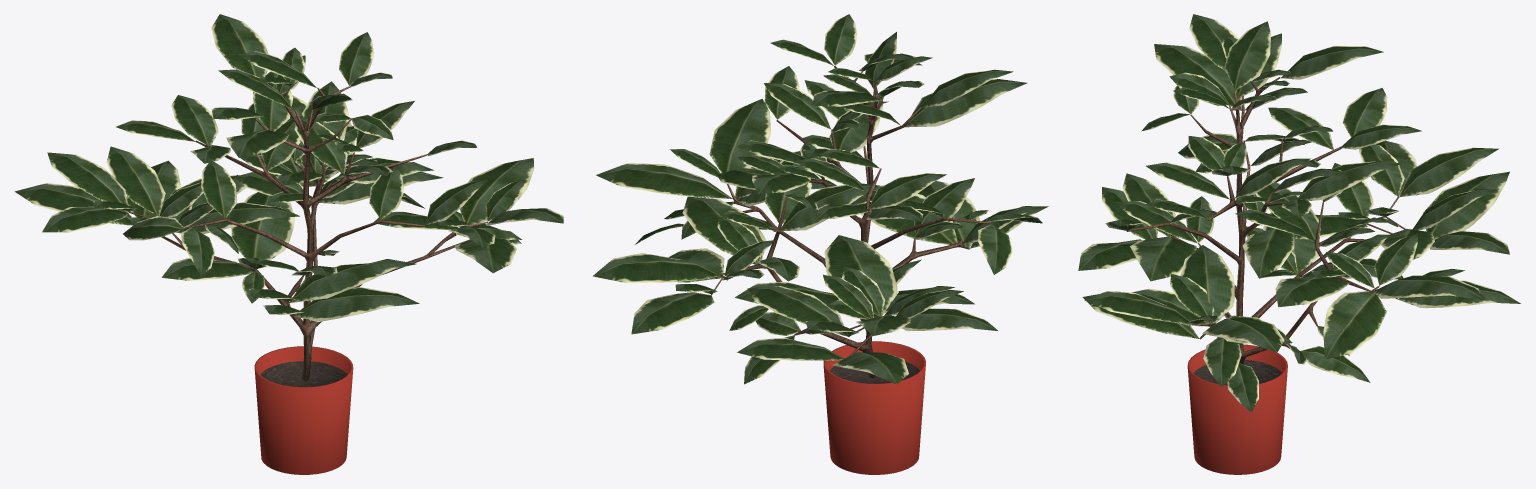
Rendered from ficus.glb.
3 views of the same model, side by side, from view 1: azimuth 30°, elevation 25°; view 2: azimuth 150°, elevation 25°; view 3: azimuth 270°, elevation 25° (orthographic). The views are drawn at different scales.
Parts seen in each view (by area): view 1: defaultMaterial (×2); view 2: defaultMaterial (×2); view 3: defaultMaterial (×2).
Part boxes in pixels (box(x1,y1,x2,y2)): defaultMaterial (×2): box(14, 14, 563, 474); defaultMaterial (×2): box(593, 14, 1048, 474); defaultMaterial (×2): box(1078, 14, 1520, 474).
Size of the model in its own units: 103 by 90.08 by 88.25.
Materials: 2 (2 with a texture image).
